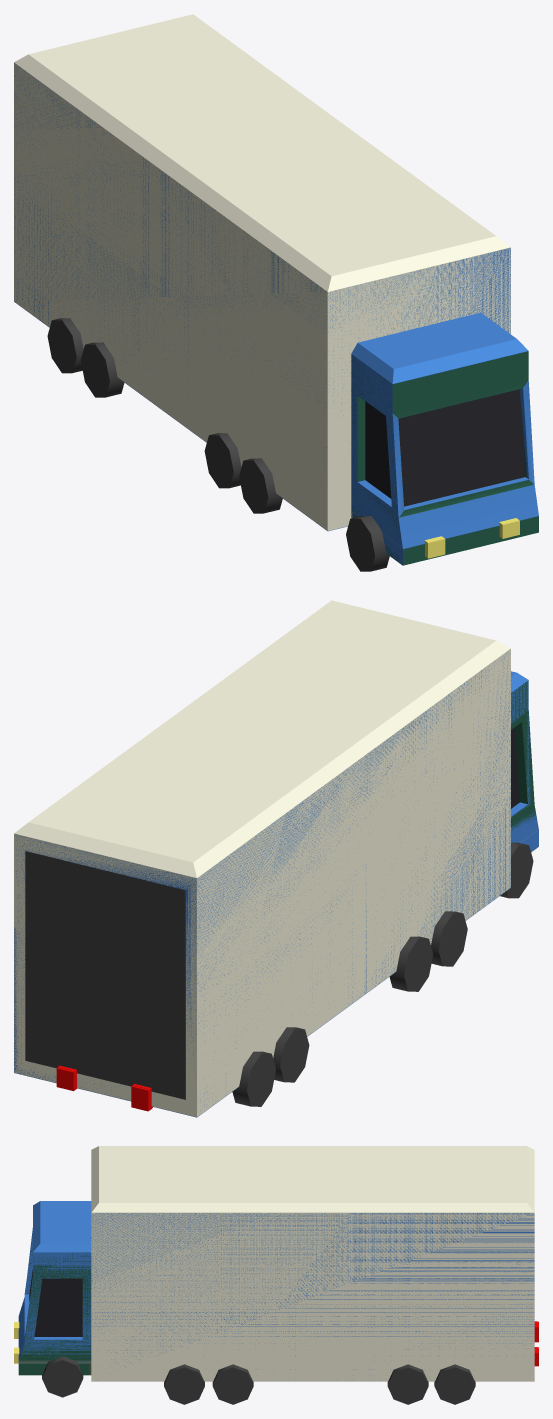
Rendered from SM_Trucks.fbx.
3 renders of one model, top to bottom at view 1: azimuth 30°, elevation 25°; view 2: azimuth 150°, elevation 25°; view 3: azimuth 270°, elevation 25°, orthographic. The views are drawn at different scales.
Parts seen in each view (by area): view 1: SM_Trucks_01, SM_Trucks_02; view 2: SM_Trucks_01, SM_Trucks_02; view 3: SM_Trucks_01, SM_Trucks_02.
Part boxes in pixels (<box>): SM_Trucks_01: <box>14,14,538,571</box>; SM_Trucks_02: <box>14,67,538,571</box>; SM_Trucks_01: <box>14,600,538,1117</box>; SM_Trucks_02: <box>14,652,538,1117</box>; SM_Trucks_01: <box>14,1146,537,1404</box>; SM_Trucks_02: <box>14,1213,538,1404</box>.
Bounding box in the file's own units: 3.81 × 5.05 × 12.26.
